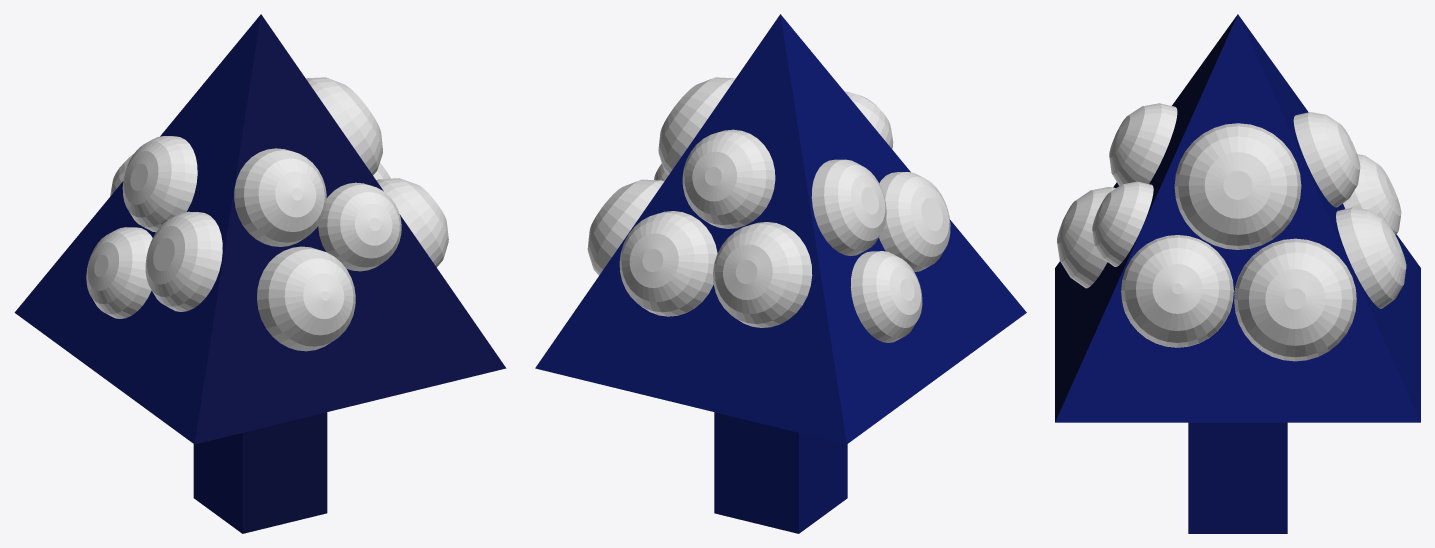
The model's file is ARBOLMP3A.fbx.
The picture shows the model from 3 angles, left to right: view 1: azimuth 30°, elevation 25°; view 2: azimuth 150°, elevation 25°; view 3: azimuth 270°, elevation 25°; orthographic projection.
Visible parts, largest first — view 1: Cube; view 2: Cube; view 3: Cube.
Part boxes in pixels (left/top/right/bottom): Cube: left=14, top=14, right=506, bottom=533; Cube: left=535, top=14, right=1026, bottom=533; Cube: left=1055, top=14, right=1420, bottom=533.
Size of the model in its own units: 200 by 301 by 200.
